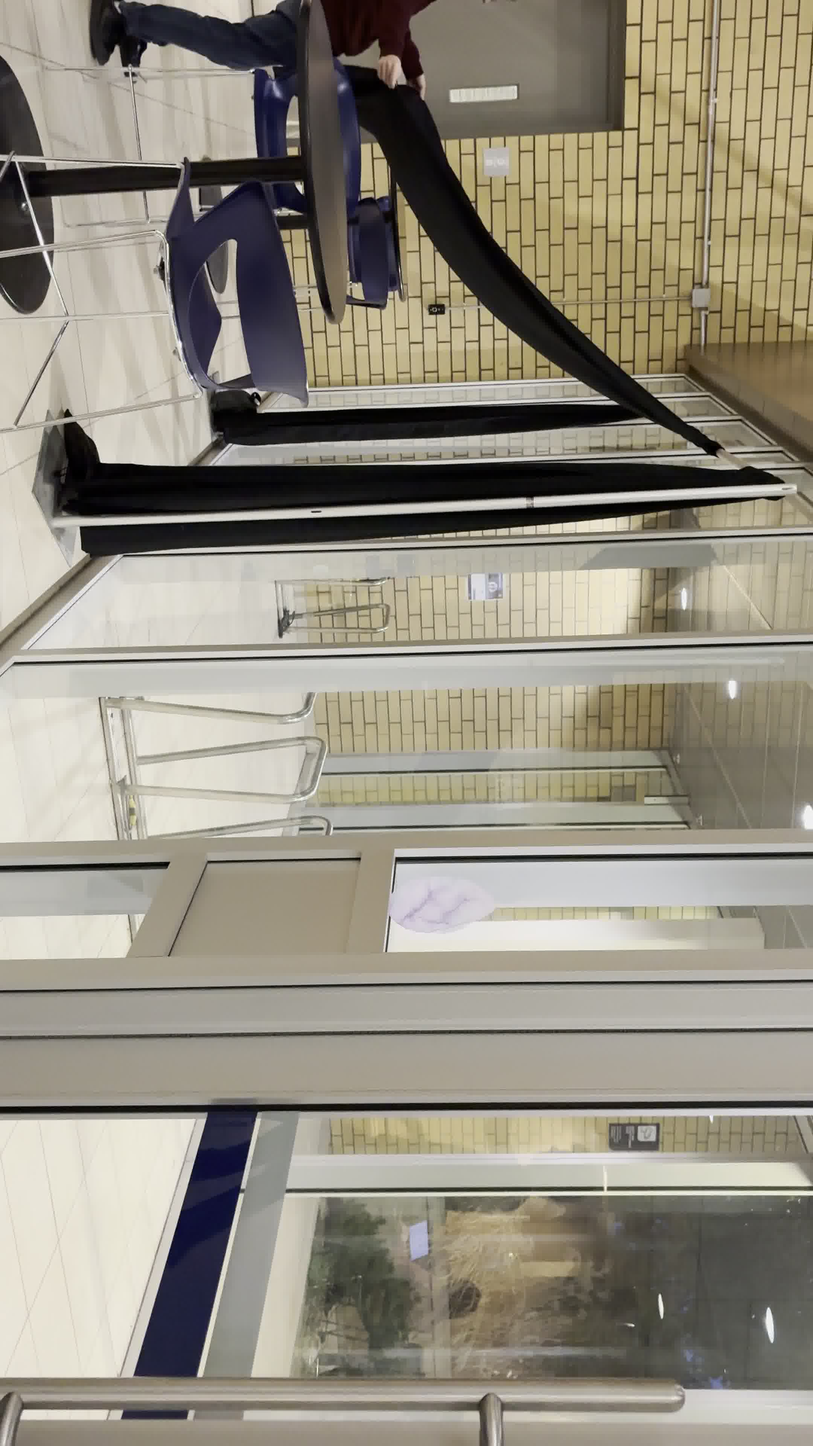Target: (386, 873, 498, 936)
